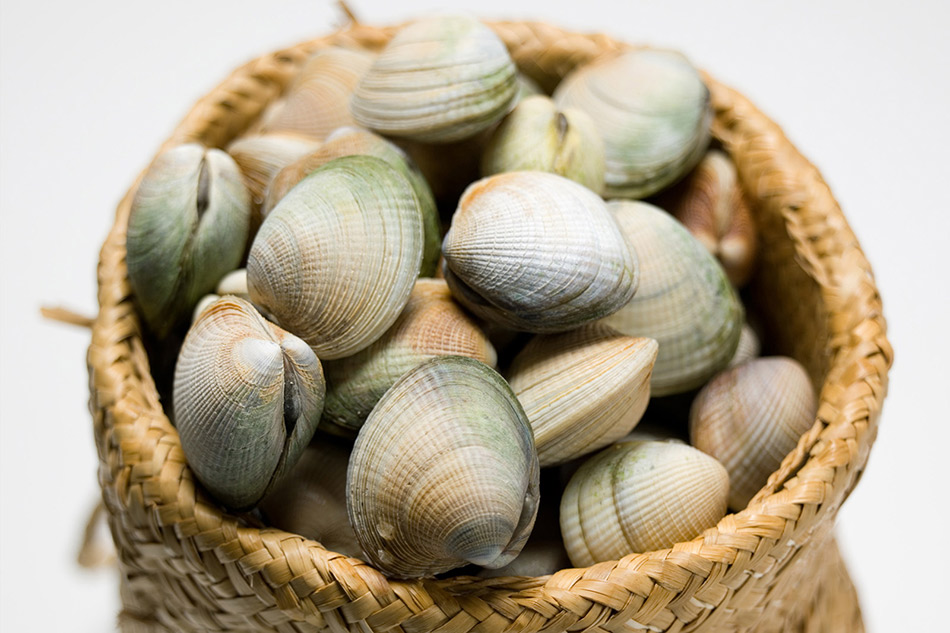cockle: (341, 356, 544, 584), (240, 153, 428, 358), (168, 293, 330, 519), (437, 164, 640, 335), (599, 198, 748, 401), (328, 268, 499, 436), (121, 140, 251, 339), (554, 40, 710, 200), (560, 435, 731, 572), (505, 322, 664, 467), (346, 10, 521, 139), (690, 351, 822, 498), (238, 43, 367, 191), (488, 87, 615, 205), (675, 145, 760, 273)
